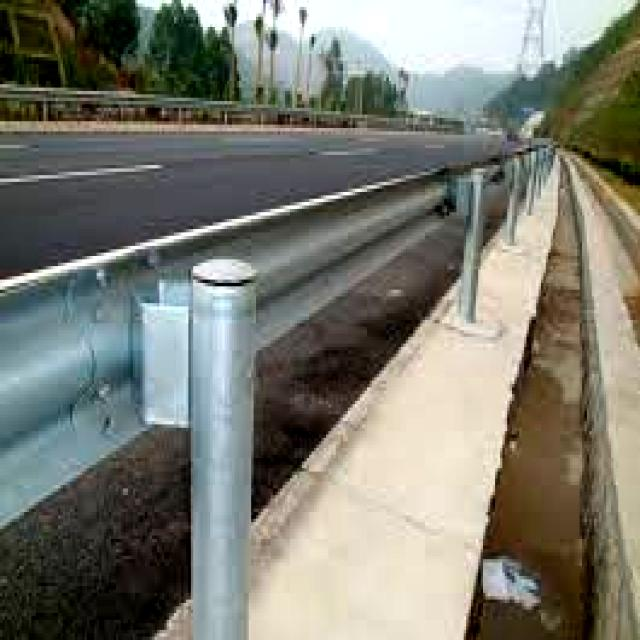Guard rail: (1, 172, 446, 527)
